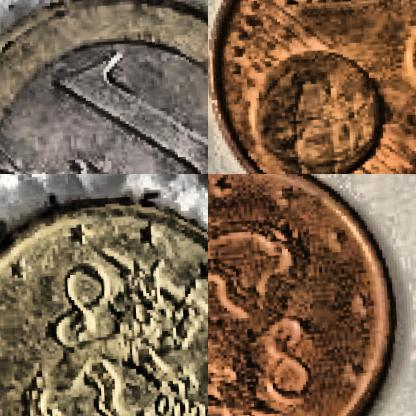coin: (0, 184, 207, 415), (208, 174, 403, 415), (0, 0, 207, 173), (208, 0, 415, 173)
